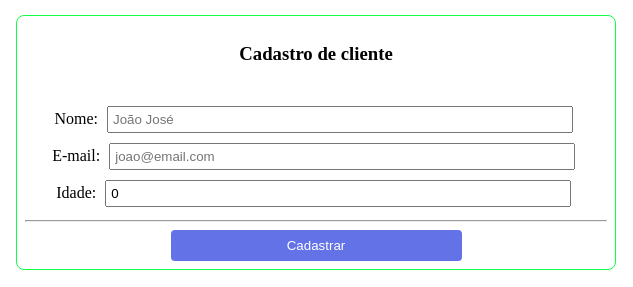
Test: Formulario.vue › should display an error message when the user tries to submit the form with only name
In the field with placeholder "João José": (340, 120) 107,106 -> 573,133, type "Abacate Silva"
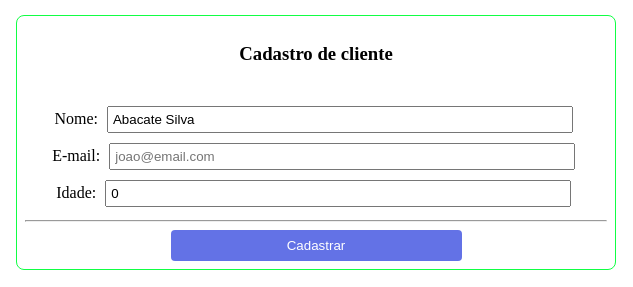
Click the button "Cadastrar": (316, 246) 170,230 -> 462,261
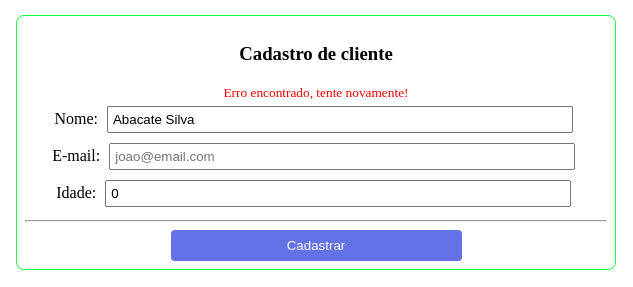
Now the text "Erro encontrado, tente novamente!" is shown, box 224,85 -> 408,100
